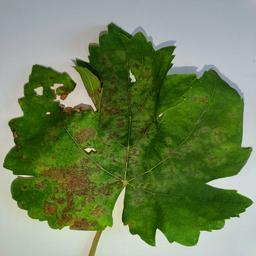Powdery-Mildew: (41, 160, 97, 214), (112, 133, 148, 169), (122, 61, 151, 104), (198, 130, 232, 163), (150, 165, 185, 196), (162, 135, 196, 158), (135, 103, 157, 131), (73, 125, 99, 145), (192, 88, 211, 110)
